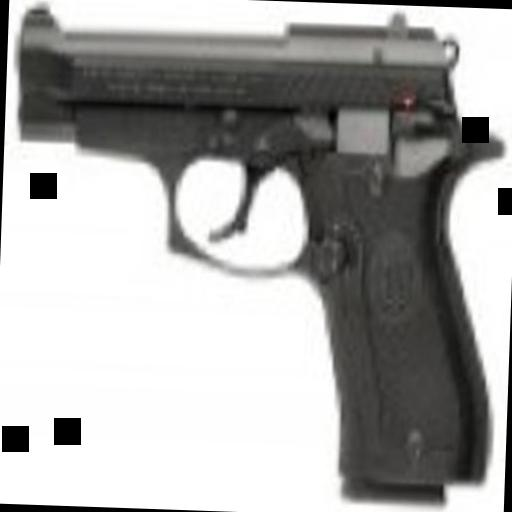Handgun: (3, 0, 500, 493)
